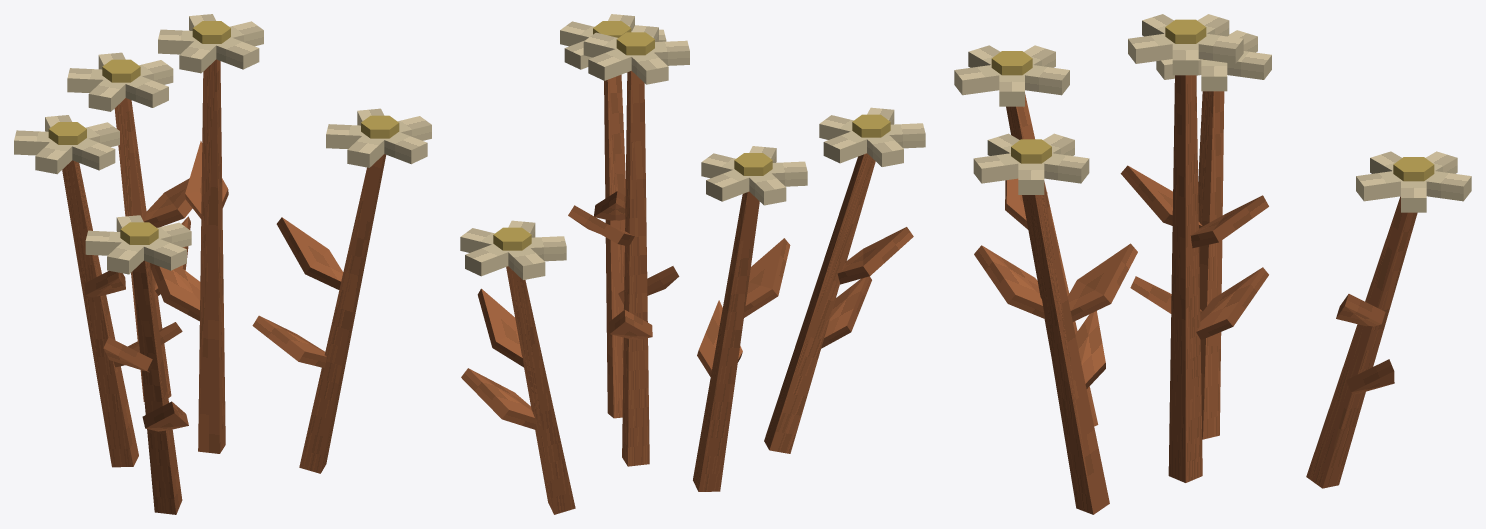
Rendered from f_wild_sarsaparilla.glb.
3 renders of one model, left to right at view 1: azimuth 30°, elevation 25°; view 2: azimuth 150°, elevation 25°; view 3: azimuth 270°, elevation 25°, orthographic. The views are drawn at different scales.
Visible parts, largest first — view 1: block_petal (×20), block_pointed-leaf (×8), block_stem-0, block_stem-3, block_stem-4, block_stem-1, block_stem-2, block_flower-centre-3, block_flower-centre-2, block_flower-centre-4, block_flower-centre-0, block_flower-centre-1; view 2: block_petal (×17), block_pointed-leaf (×10), block_stem-0, block_stem-1, block_stem-4, block_stem-2, block_stem-3, block_flower-centre-0, block_flower-centre-1, block_flower-centre-2, block_flower-centre-4; view 3: block_pointed-leaf (×10), block_petal (×14), block_stem-0, block_stem-3, block_stem-2, block_stem-4, block_stem-1, block_flower-centre-2, block_flower-centre-0, block_flower-centre-1, block_flower-centre-3.
Boxes of the visible parts, x1,y1,x2,y2 form: block_petal (×20): [14, 21, 431, 274]; block_pointed-leaf (×8): [84, 141, 343, 431]; block_stem-0: [198, 59, 225, 453]; block_stem-3: [299, 154, 386, 473]; block_stem-4: [62, 160, 138, 467]; block_stem-1: [132, 260, 182, 514]; block_stem-2: [114, 98, 171, 401]; block_flower-centre-3: [361, 115, 399, 138]; block_flower-centre-2: [102, 59, 140, 82]; block_flower-centre-4: [48, 122, 86, 144]; block_flower-centre-0: [192, 21, 230, 43]; block_flower-centre-1: [120, 222, 158, 244]; block_petal (×17): [460, 21, 925, 279]; block_pointed-leaf (×10): [461, 191, 913, 430]; block_stem-0: [622, 71, 649, 466]; block_stem-1: [764, 153, 875, 453]; block_stem-4: [693, 191, 759, 491]; block_stem-2: [506, 266, 575, 514]; block_stem-3: [604, 74, 625, 418]; block_flower-centre-0: [616, 32, 654, 55]; block_flower-centre-1: [852, 114, 890, 137]; block_flower-centre-2: [493, 227, 531, 250]; block_flower-centre-4: [734, 153, 772, 175]; block_pointed-leaf (×10): [974, 165, 1394, 394]; block_petal (×14): [954, 33, 1471, 212]; block_stem-0: [1168, 75, 1202, 482]; block_stem-3: [1025, 183, 1109, 514]; block_stem-2: [1306, 196, 1417, 488]; block_stem-4: [1198, 91, 1224, 439]; block_stem-1: [1006, 94, 1098, 426]; block_flower-centre-2: [1393, 157, 1434, 181]; block_flower-centre-0: [1165, 19, 1206, 43]; block_flower-centre-1: [991, 51, 1032, 75]; block_flower-centre-3: [1011, 139, 1051, 163].
Bounding box in the file's own units: 0.3817 × 0.4567 × 0.4726.
1 material, 1 textured.
